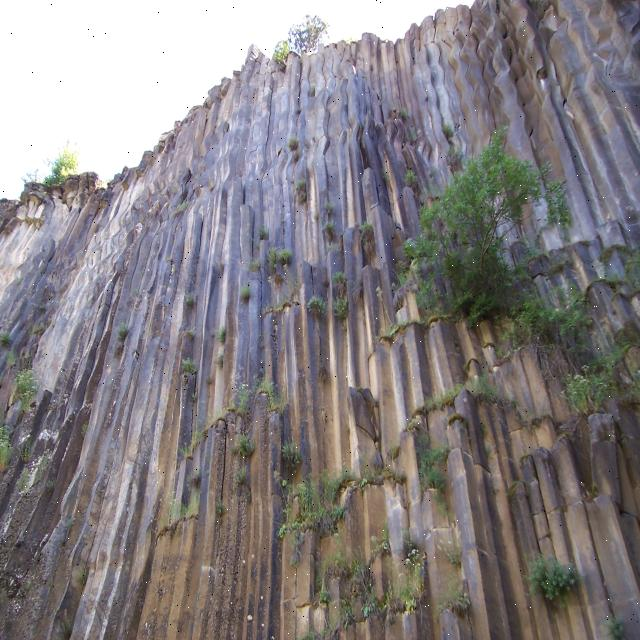Igneous: (0, 1, 638, 636)
